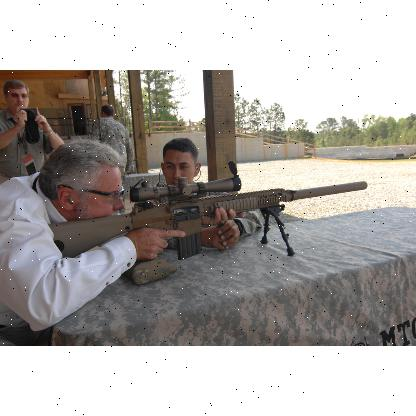gun: (48, 158, 364, 252)
